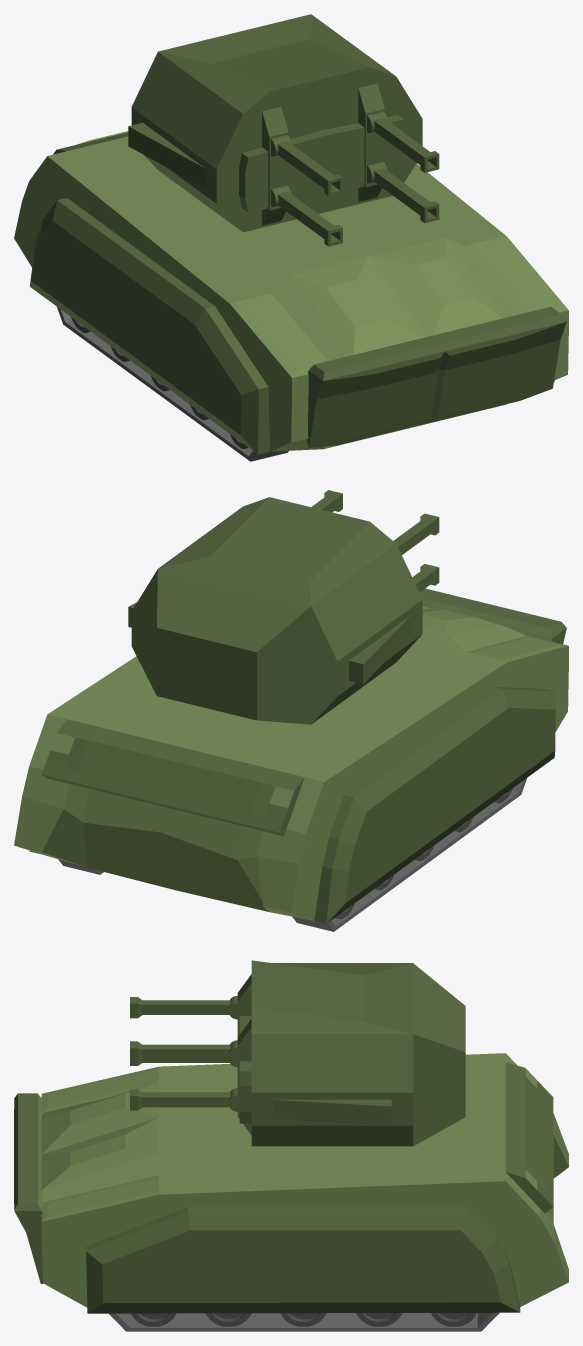
File: tier3.fbx
3 renders of one model, top to bottom at view 1: azimuth 30°, elevation 25°; view 2: azimuth 150°, elevation 25°; view 3: azimuth 270°, elevation 25°, orthographic. The views are drawn at different scales.
Visible parts, largest first — view 1: Body9, Turret9, Bottom Main Gun9, Top Main Gun9, Tracks9; view 2: Body9, Turret9, Tracks9, Top Main Gun9; view 3: Body9, Turret9, Tracks9, Top Main Gun9, Road Wheels9, Bottom Main Gun9.
Boxes of the visible parts, x1,y1,x2,y2 form: Body9: (14, 131, 568, 454); Turret9: (128, 14, 422, 232); Bottom Main Gun9: (271, 162, 439, 246); Top Main Gun9: (271, 111, 439, 196); Tracks9: (57, 307, 288, 461); Body9: (14, 588, 568, 923); Turret9: (128, 497, 422, 724); Tracks9: (58, 778, 526, 931); Top Main Gun9: (311, 490, 439, 554); Body9: (14, 1053, 568, 1313); Turret9: (237, 960, 465, 1146); Tracks9: (109, 1312, 499, 1331); Top Main Gun9: (130, 996, 237, 1063); Road Wheels9: (131, 1313, 476, 1326); Bottom Main Gun9: (130, 1059, 237, 1111).
Bounding box in the file's own units: 409 × 374 × 659.
